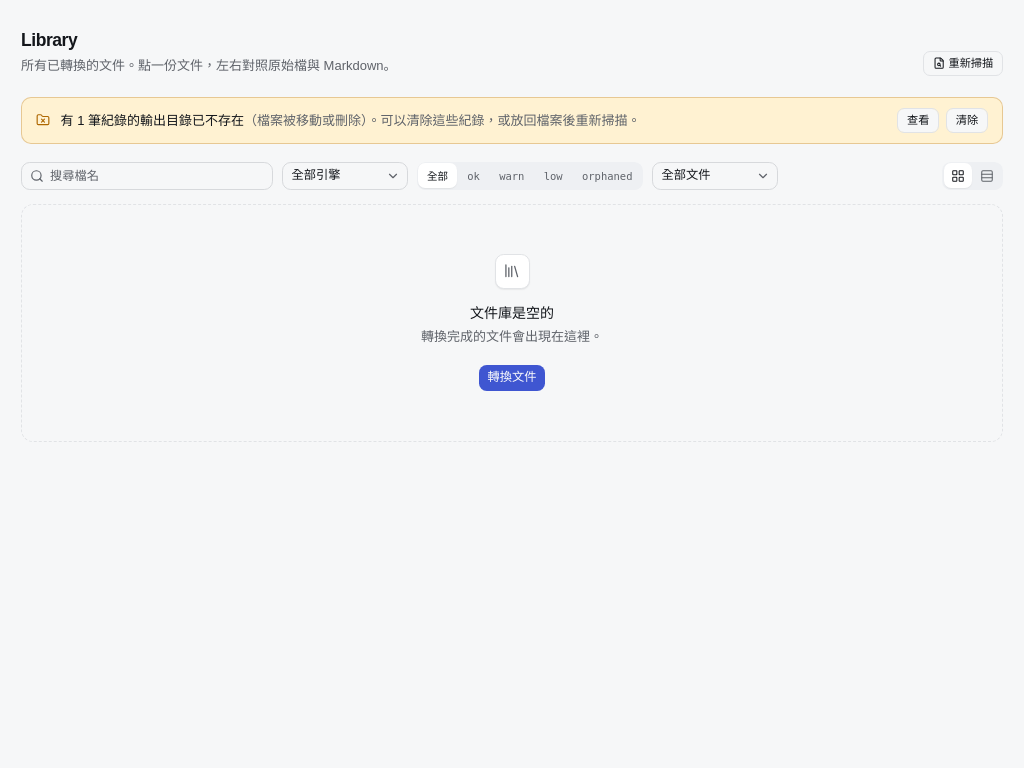
Test case: without copies the second sentence is absent
Click the button "清除".
click(967, 120)  # box x1=946 y1=108 x2=988 y2=132
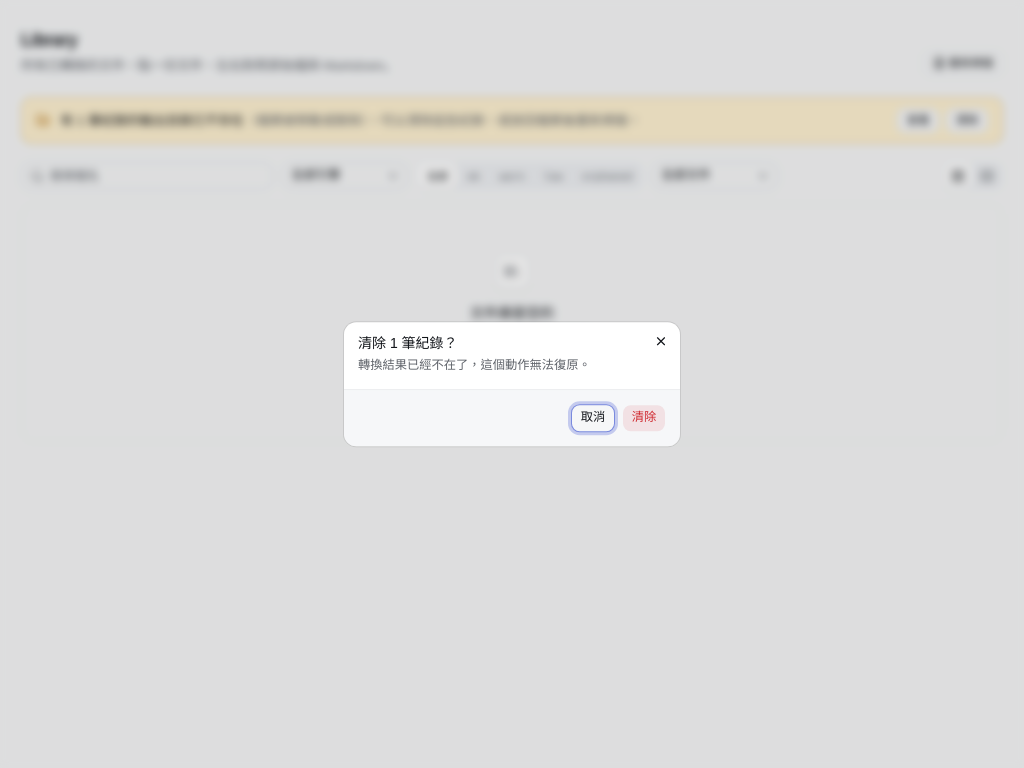
Expected: the dialog with test id "confirm-purge" does not show "原始檔備份", x1=344 y1=322 x2=680 y2=446
Expected: the dialog with test id "confirm-purge" shows "清除 1 筆紀錄？", x1=358 y1=335 x2=458 y2=351
